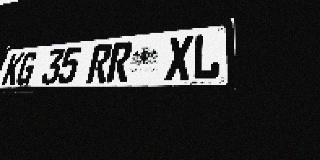3: (40, 48, 66, 84)
5: (56, 47, 82, 84)
G: (14, 51, 39, 85)
K: (1, 52, 25, 86)
L: (191, 32, 220, 80)
R: (106, 41, 133, 83), (86, 43, 113, 83)
X: (165, 35, 193, 81)
